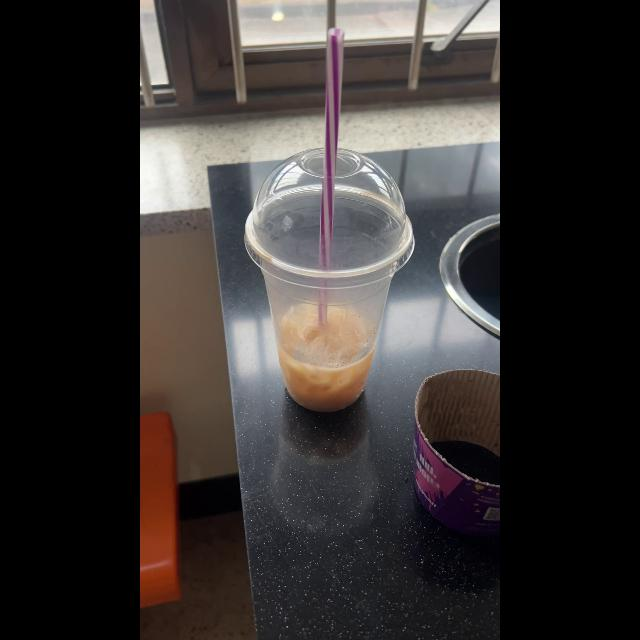dirty: (247, 150, 416, 406)
